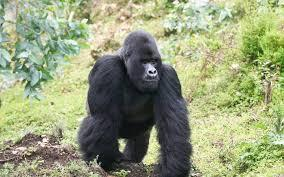goriile_montagne: (78, 30, 198, 177)
